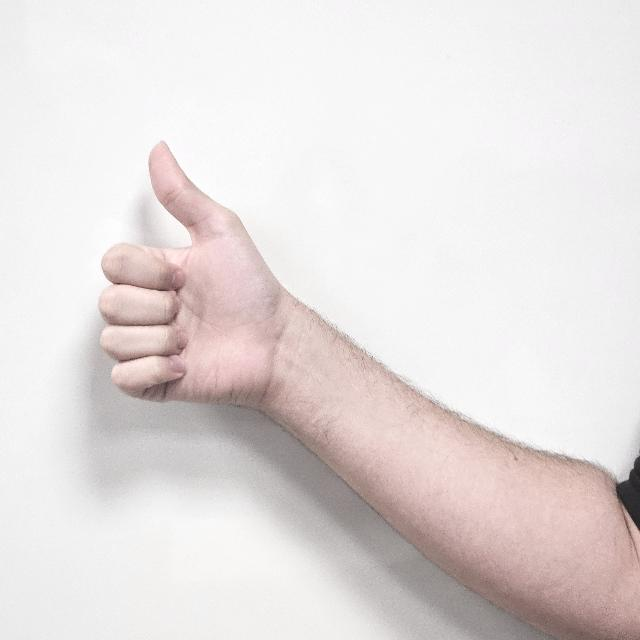Start: (100, 134, 286, 440)
